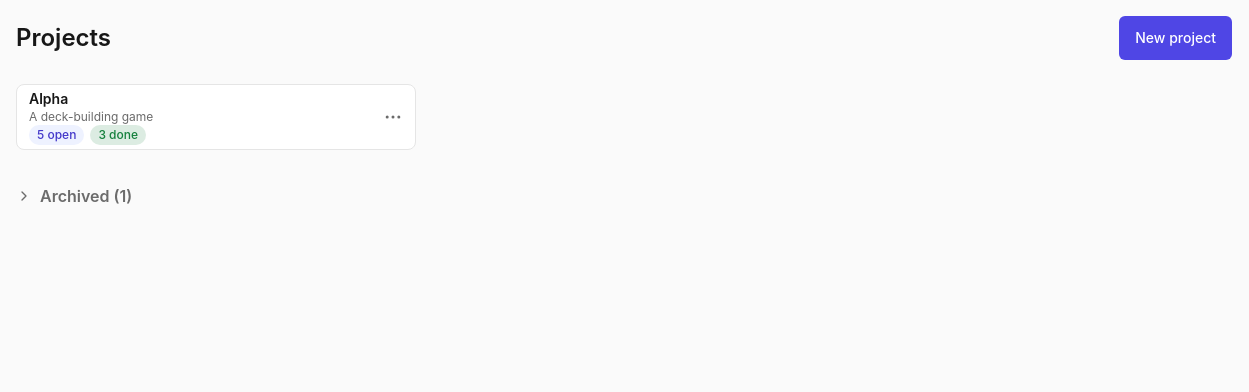
Projects › renders cards with counts and a collapsed archived section
Expected: the text "A deck-building game" is shown, [29, 109, 153, 124]
Expected: the text "5 open" is shown, [29, 125, 84, 145]
Click the button "Archived (1)": (74,196) [16, 174, 132, 218]
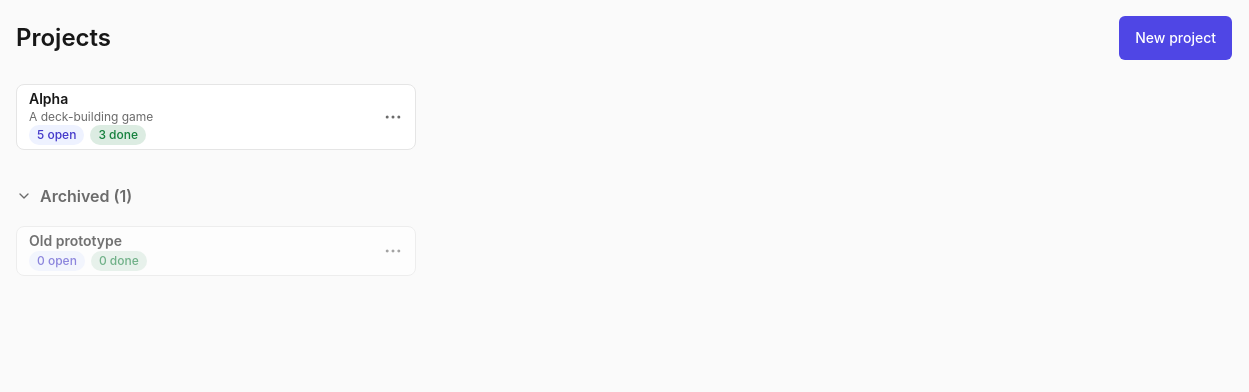
Result: the link "Old prototype" is shown at [29, 232, 122, 249]
Click the button named "Options for Old prototype": (393,251) [371, 229, 415, 273]
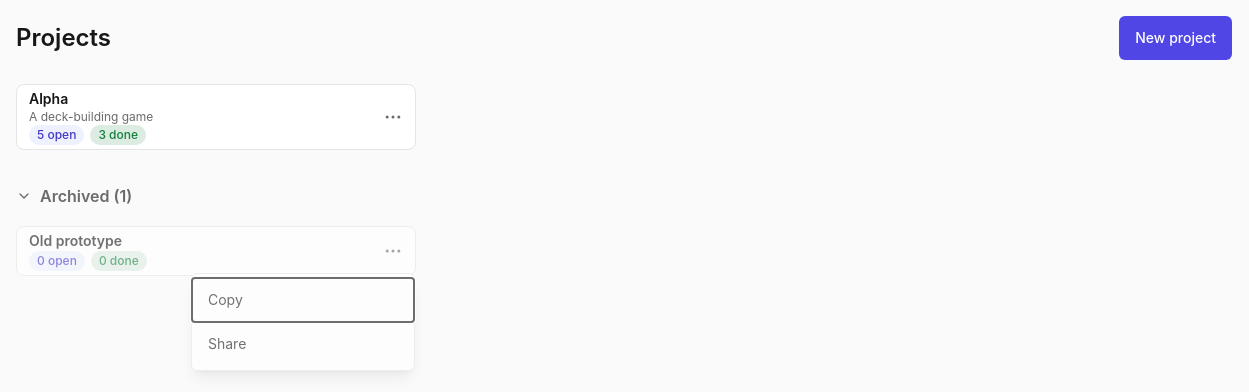
Result: the menu item "Copy" is shown at [192, 278, 414, 322]
